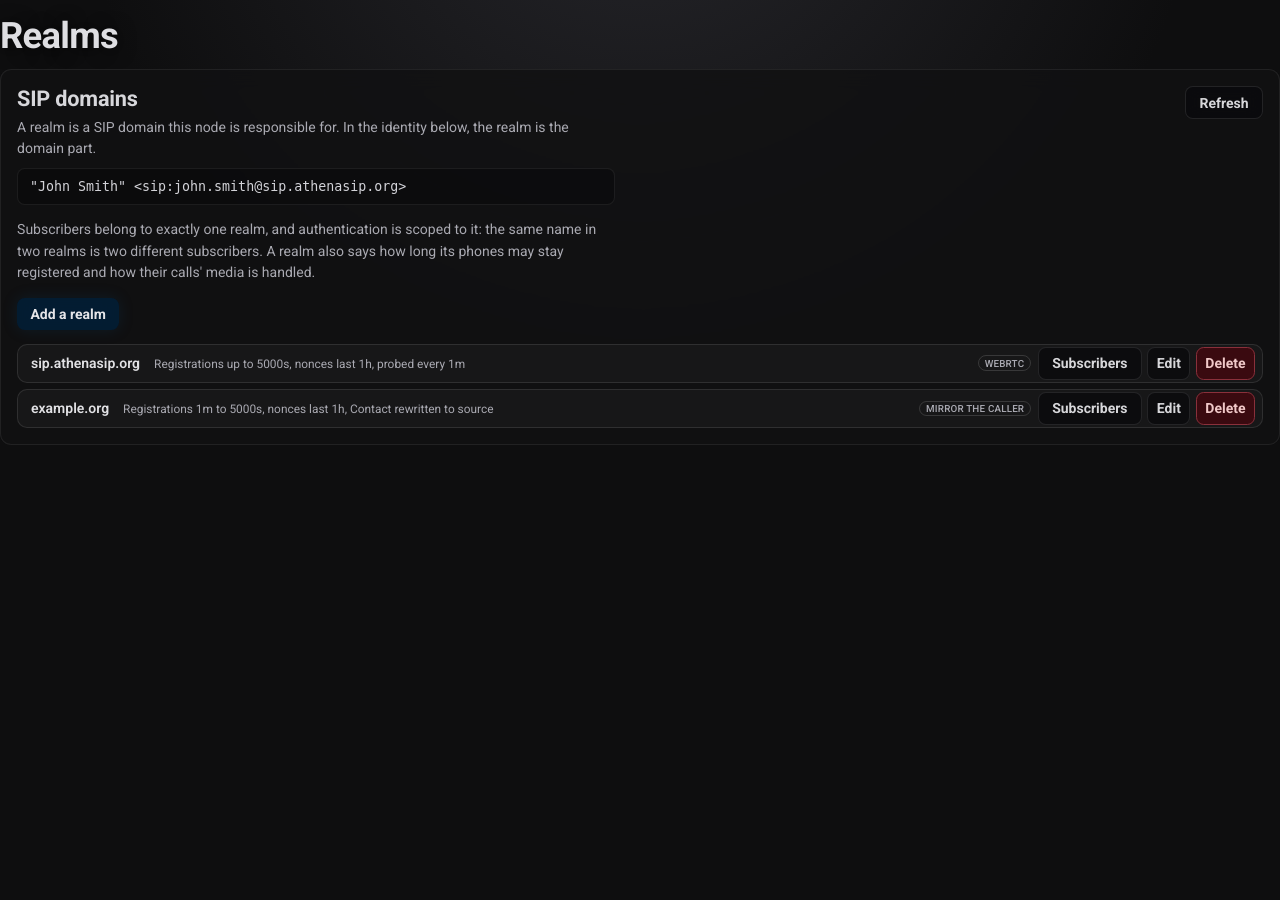
RealmsScreen › shows a taken name against the name field, and keeps the dialogue open
Click the button "Add a realm" at x=68, y=314, box [17,298,119,330]
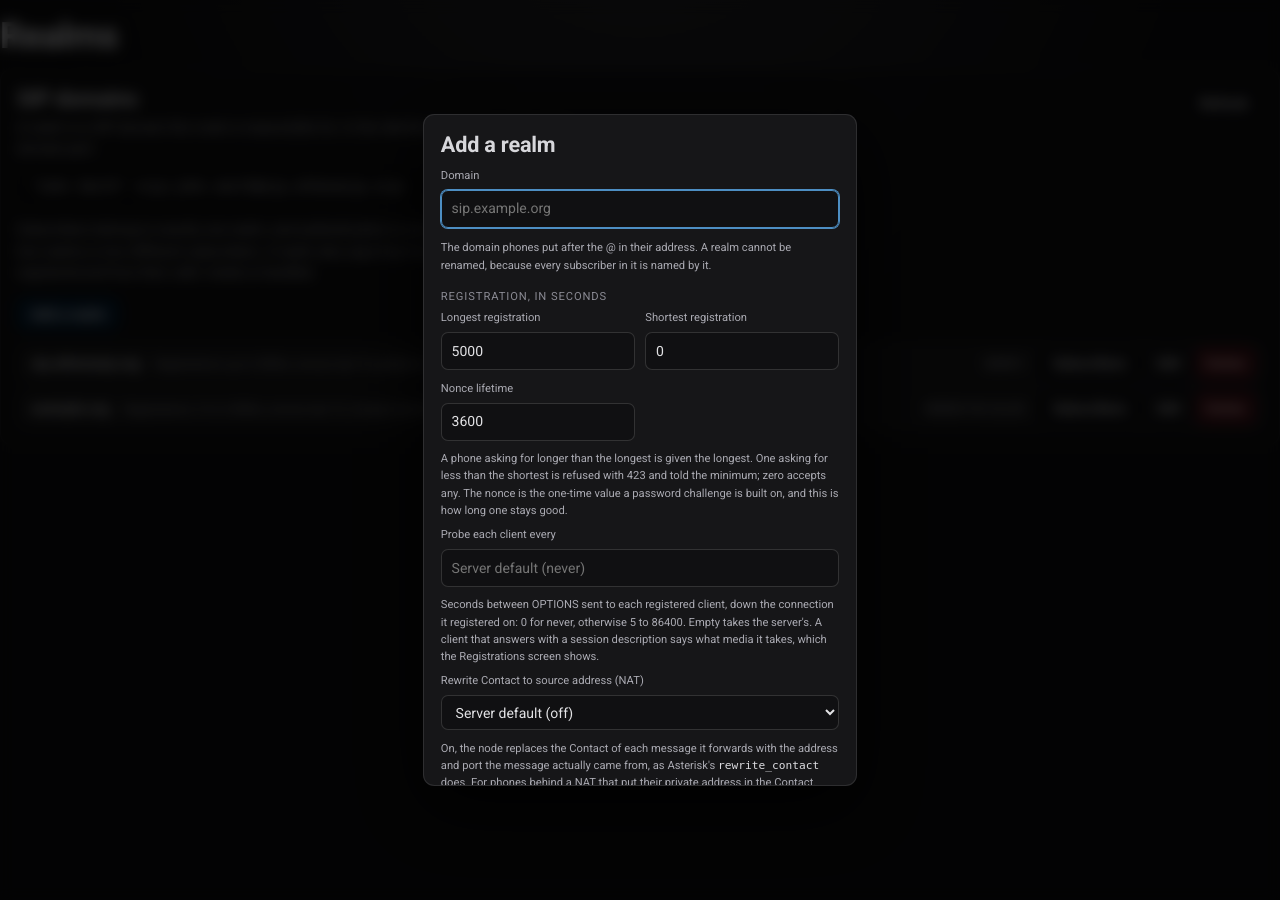
Type "sip.athenasip.org" into the field labelled "Domain" at x=640, y=209, box [441,190,839,228]
(page scrolled)
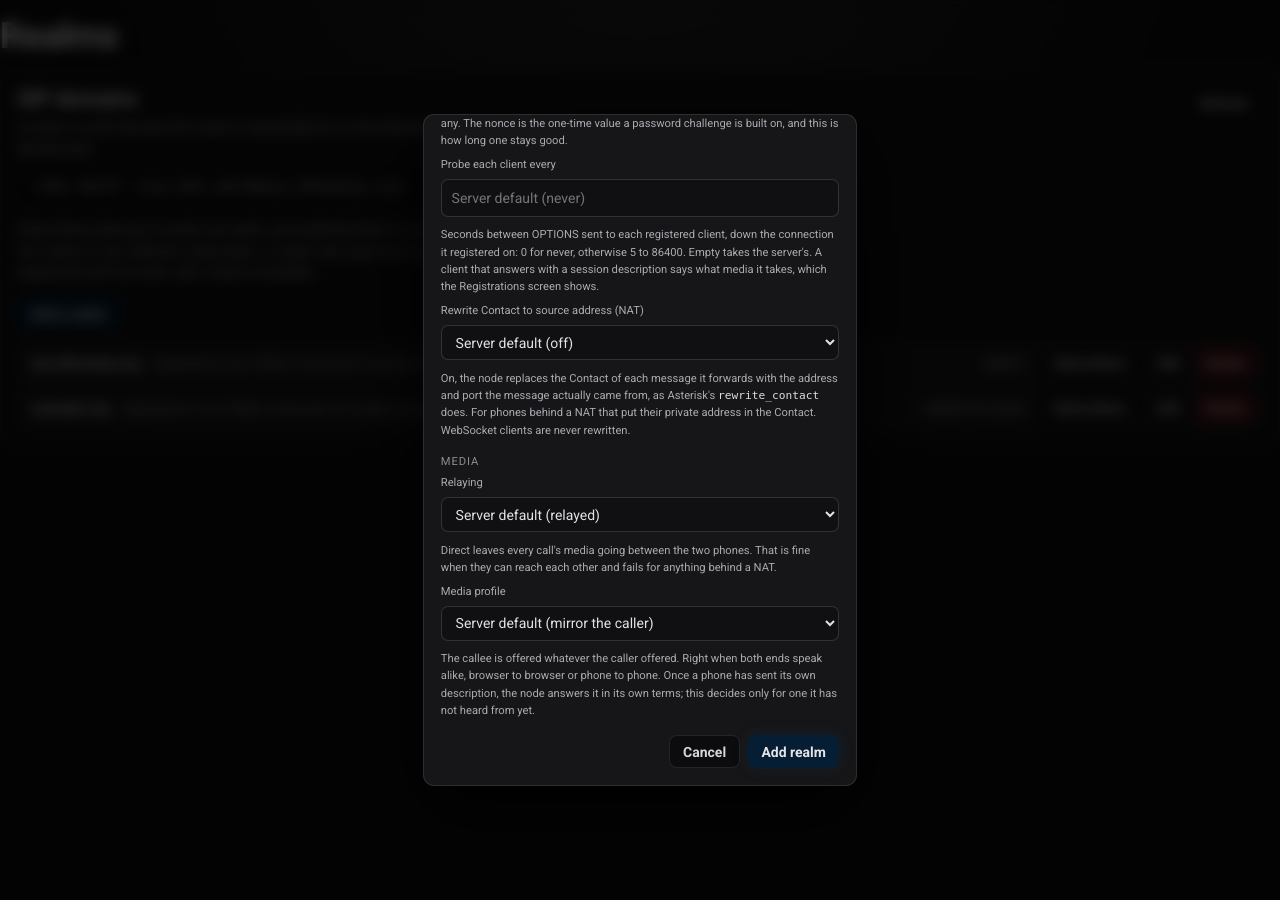
Click the button "Add realm" at x=794, y=752, box [748,735,839,768]
(page scrolled)
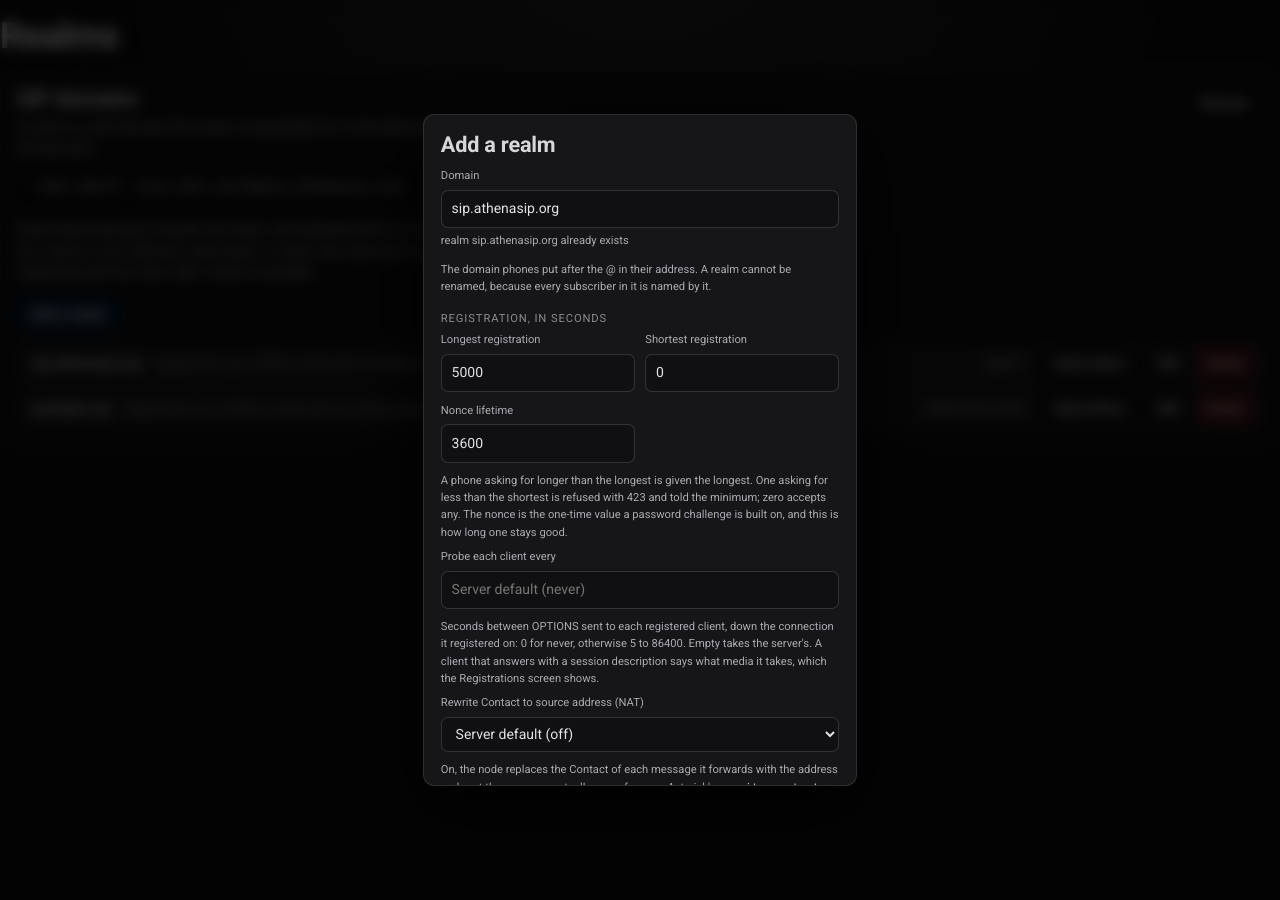
Expected: the message reads "realm sip.athenasip.org already exists", [441,234,629,247]
